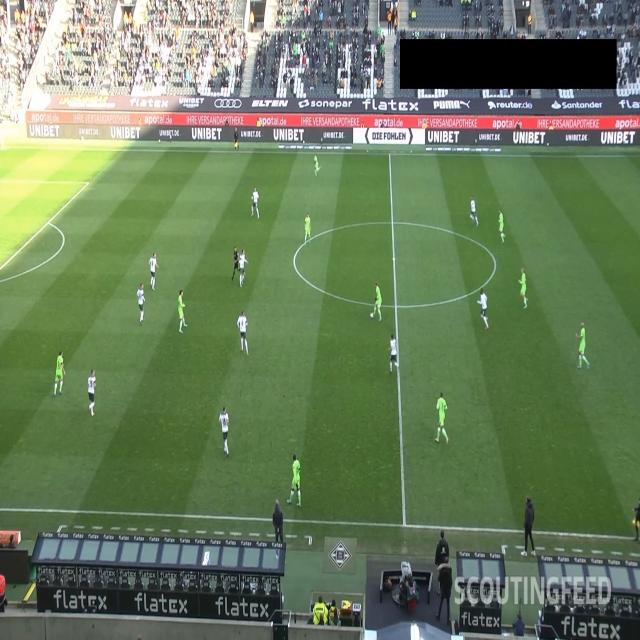ball: (370, 312, 374, 318)
